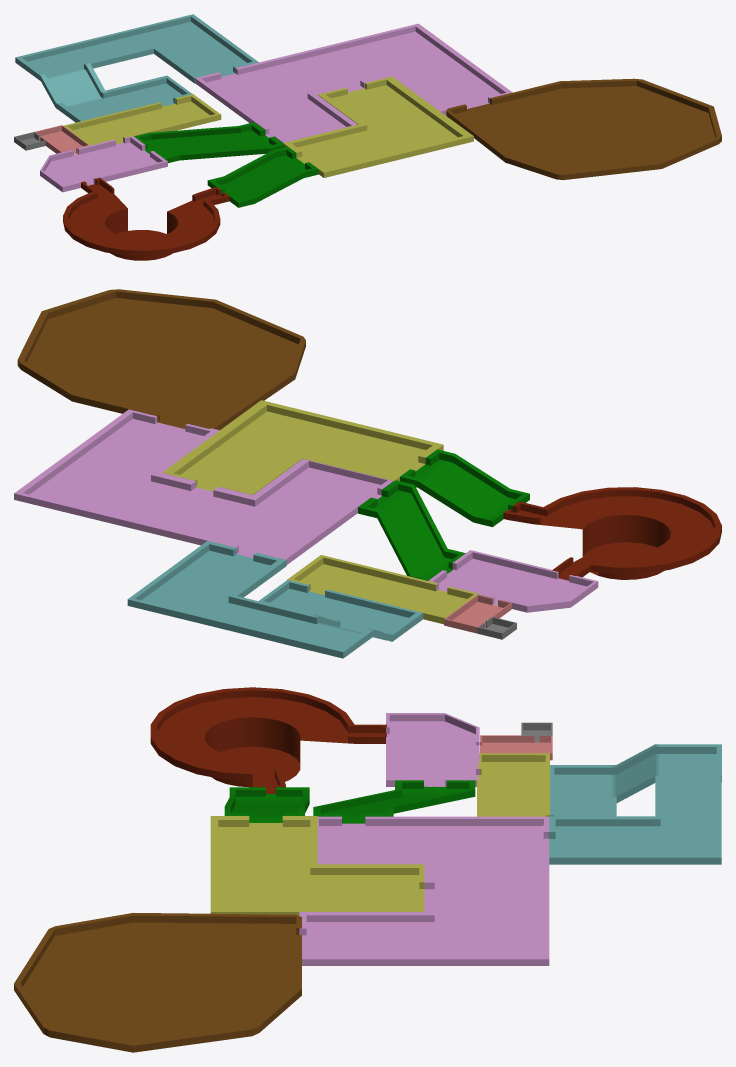
Rendered from FinalLevelOBj.obj.
3 renders of one model, top to bottom at view 1: azimuth 30°, elevation 25°; view 2: azimuth 150°, elevation 25°; view 3: azimuth 270°, elevation 25°, orthographic. The views are drawn at different scales.
Visible parts, largest first — view 1: BossRoom, PreBossRoom, MintRoom, GardenRoom, HotCola, BigRoom, Pepper, RampRoom, RampRoom1, CandyCain, EntryRoom; view 2: BossRoom, PreBossRoom, MintRoom, GardenRoom, HotCola, BigRoom, Pepper, RampRoom, RampRoom1, CandyCain, EntryRoom; view 3: BossRoom, PreBossRoom, MintRoom, GardenRoom, HotCola, BigRoom, Pepper, RampRoom, RampRoom1, CandyCain.
Part boxes in pixels (left/top/right/bottom): BossRoom: left=446, top=78, right=721, bottom=180; PreBossRoom: left=195, top=23, right=512, bottom=142; MintRoom: left=15, top=14, right=258, bottom=122; GardenRoom: left=283, top=76, right=473, bottom=177; HotCola: left=63, top=177, right=229, bottom=260; BigRoom: left=40, top=136, right=167, bottom=192; Pepper: left=63, top=94, right=221, bottom=145; RampRoom: left=134, top=122, right=284, bottom=163; RampRoom1: left=207, top=146, right=318, bottom=207; CandyCain: left=35, top=125, right=88, bottom=154; EntryRoom: left=14, top=132, right=46, bottom=150; BossRoom: left=17, top=289, right=305, bottom=430; PreBossRoom: left=14, top=409, right=393, bottom=564; MintRoom: left=127, top=540, right=423, bottom=658; GardenRoom: left=162, top=400, right=443, bottom=494; HotCola: left=503, top=487, right=721, bottom=580; BigRoom: left=428, top=550, right=598, bottom=612; Pepper: left=287, top=555, right=479, bottom=624; RampRoom: left=358, top=480, right=465, bottom=580; RampRoom1: left=400, top=449, right=529, bottom=527; CandyCain: left=444, top=594, right=511, bottom=633; EntryRoom: left=477, top=617, right=516, bottom=639; BossRoom: left=14, top=912, right=301, bottom=1052; PreBossRoom: left=299, top=816, right=549, bottom=965; MintRoom: left=548, top=744, right=721, bottom=864; GardenRoom: left=210, top=816, right=424, bottom=915; HotCola: left=150, top=687, right=386, bottom=793; BigRoom: left=386, top=713, right=479, bottom=786; Pepper: left=477, top=753, right=549, bottom=816; RampRoom: left=313, top=780, right=475, bottom=823; RampRoom1: left=224, top=787, right=309, bottom=822; CandyCain: left=480, top=735, right=552, bottom=760.
Size of the model in its own units: 831 by 58.32 by 655.
